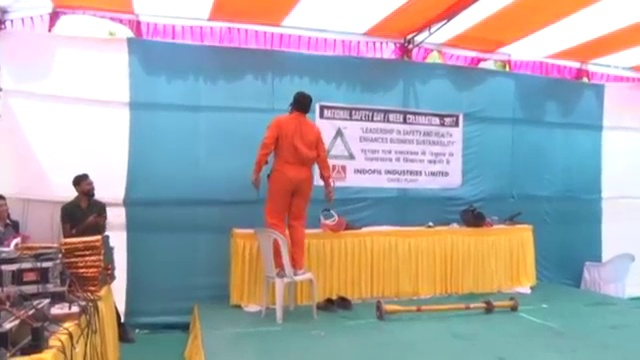helmet_off: (288, 89, 313, 116), (70, 174, 95, 200), (1, 193, 11, 221)
person: (256, 89, 332, 274), (61, 175, 110, 234)
